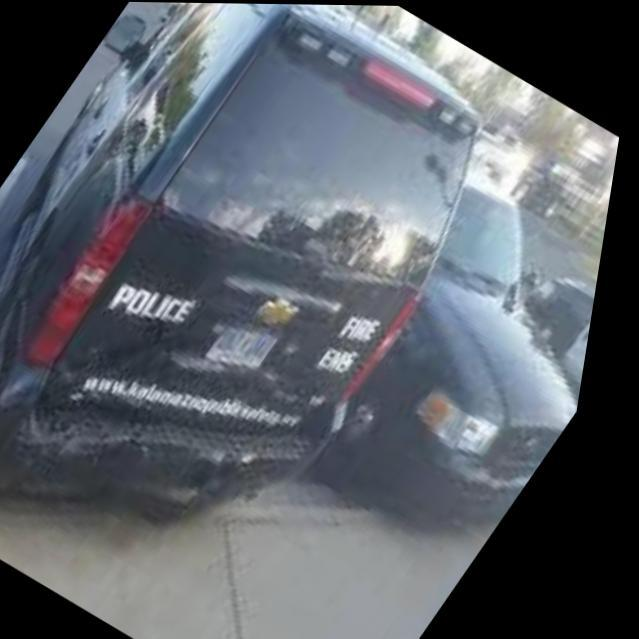dent: (36, 337, 181, 484)
